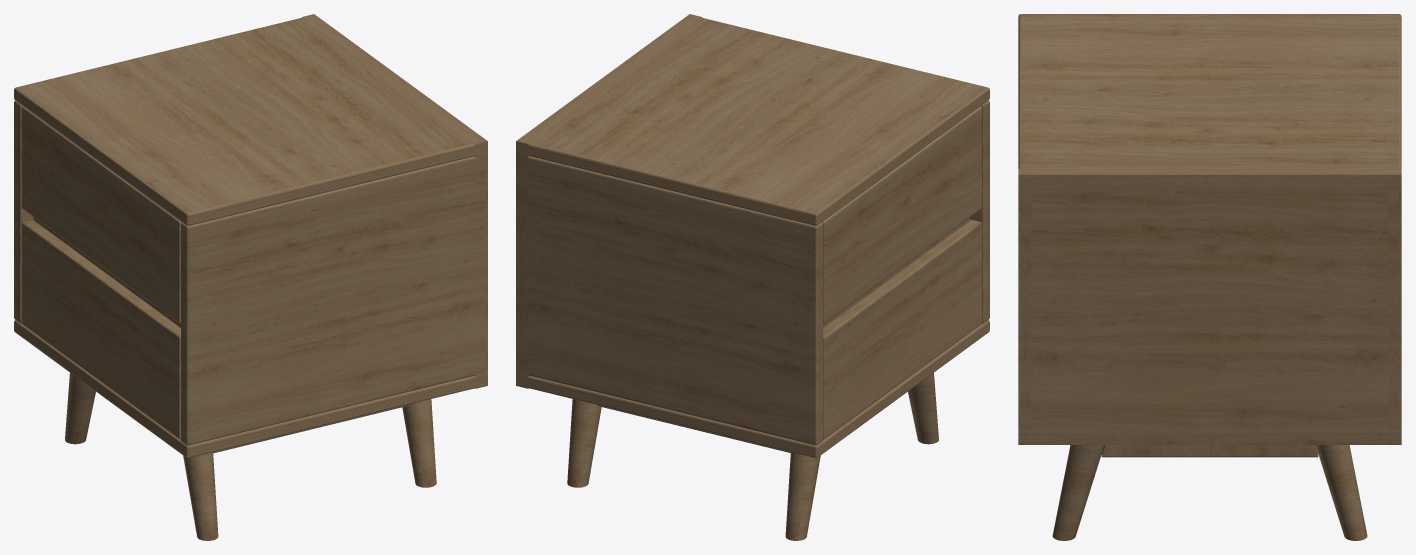
File: sidebed_table (1).glb
3 renders of one model, left to right at view 1: azimuth 30°, elevation 25°; view 2: azimuth 150°, elevation 25°; view 3: azimuth 270°, elevation 25°, orthographic. The views are drawn at different scales.
Visible parts, largest first — view 1: Box2131645361, Box2131645360, Box2131645368, Box2131645366, Line2000004449, Line2000004450, Line2000004448, Box2131645370; view 2: Box2131645361, Box2131645360, Box2131645368, Box2131645366, Line2000004448, Line2000004451, Line2000004449, Box2131645370; view 3: Box2131645366, Box2131645360, Box2131645361, Box2131645362, Line2000004450, Line2000004451.
Boxes of the visible parts, x1=… form: Box2131645361: x1=14, y1=100, x2=485, y2=445; Box2131645360: x1=14, y1=17, x2=485, y2=458; Box2131645368: x1=21, y1=106, x2=181, y2=439; Box2131645366: x1=302, y1=14, x2=487, y2=388; Line2000004449: x1=183, y1=452, x2=218, y2=540; Line2000004450: x1=402, y1=399, x2=436, y2=487; Line2000004448: x1=65, y1=373, x2=95, y2=444; Box2131645370: x1=33, y1=217, x2=180, y2=327; Box2131645361: x1=528, y1=100, x2=989, y2=445; Box2131645360: x1=528, y1=17, x2=989, y2=458; Box2131645368: x1=822, y1=106, x2=981, y2=439; Box2131645366: x1=516, y1=14, x2=701, y2=388; Line2000004448: x1=785, y1=452, x2=820, y2=540; Line2000004451: x1=567, y1=399, x2=601, y2=487; Line2000004449: x1=908, y1=373, x2=938, y2=444; Box2131645370: x1=823, y1=217, x2=969, y2=327; Box2131645366: x1=1018, y1=168, x2=1401, y2=444; Box2131645360: x1=1018, y1=14, x2=1401, y2=442; Box2131645361: x1=1021, y1=191, x2=1398, y2=428; Box2131645362: x1=1101, y1=445, x2=1318, y2=457; Line2000004450: x1=1052, y1=445, x2=1104, y2=540; Line2000004451: x1=1315, y1=445, x2=1367, y2=540.
Size of the model in its own units: 0.45 by 0.4965 by 0.45.
1 material, 1 textured.
